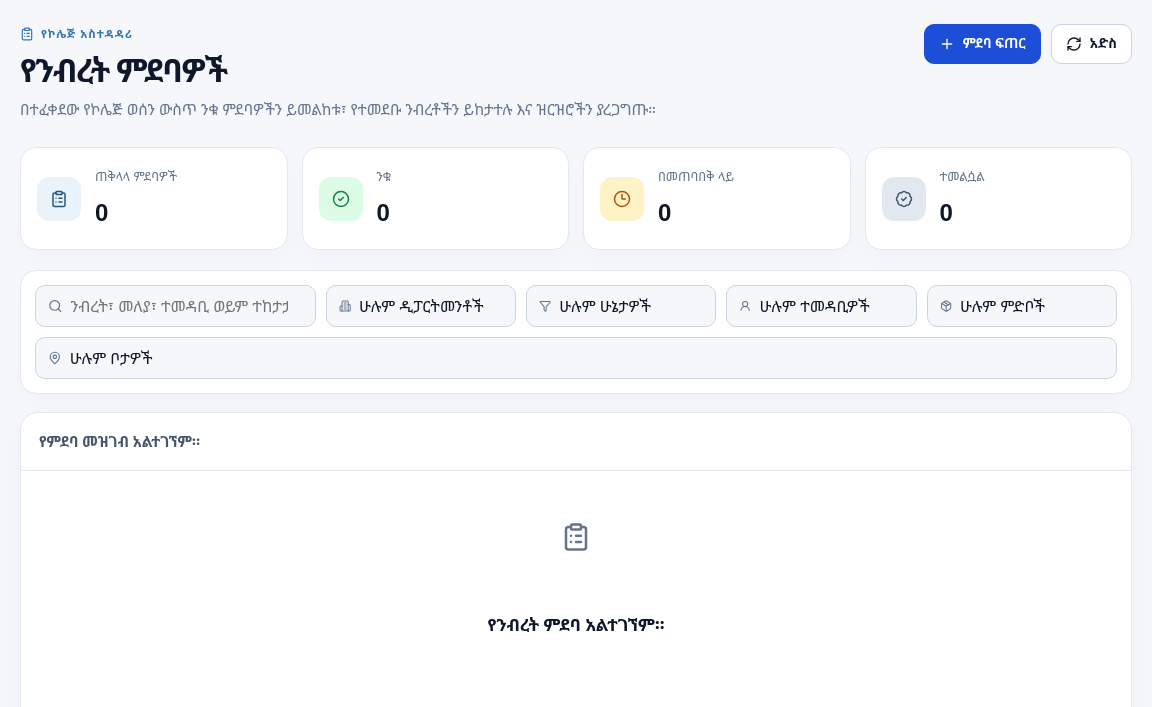
Test case: Amharic labels are used for assignment registration and empty options report clearly
Expected: the heading "የንብረት ምደባዎች" is shown, x1=20 y1=48 x2=227 y2=91
Click the button "ምደባ ፍጠር": [982, 44] box x1=924 y1=24 x2=1041 y2=64
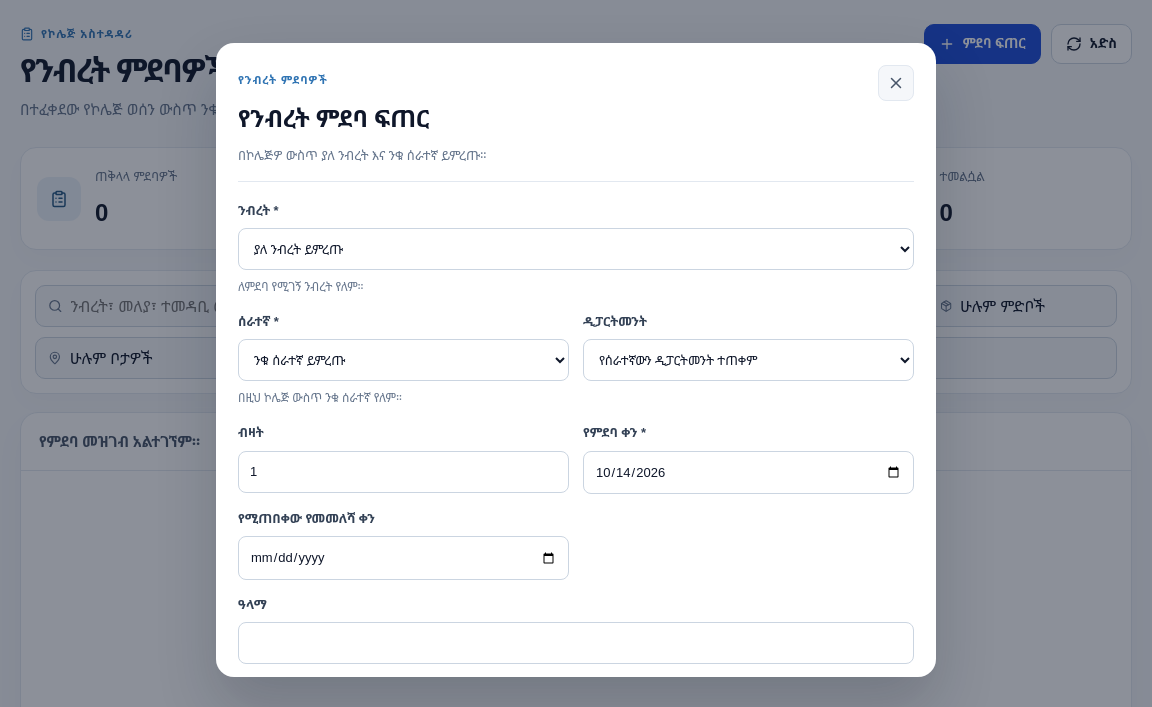
Now the number of elements with class "college-assignments-field-hint" is 2, box x1=238 y1=278 x2=364 y2=295; x1=238 y1=389 x2=402 y2=406
